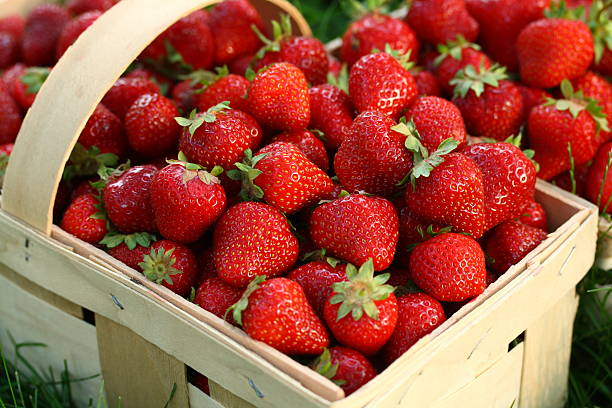Fresa: (307, 191, 401, 274), (404, 150, 489, 241), (330, 109, 418, 195), (239, 276, 329, 359), (238, 140, 339, 212), (146, 161, 227, 250), (211, 200, 302, 279), (320, 271, 401, 356), (446, 67, 530, 147), (513, 12, 598, 91), (405, 228, 489, 304), (527, 97, 601, 181), (344, 46, 420, 121), (178, 104, 262, 170), (242, 61, 314, 135), (401, 91, 470, 155)
